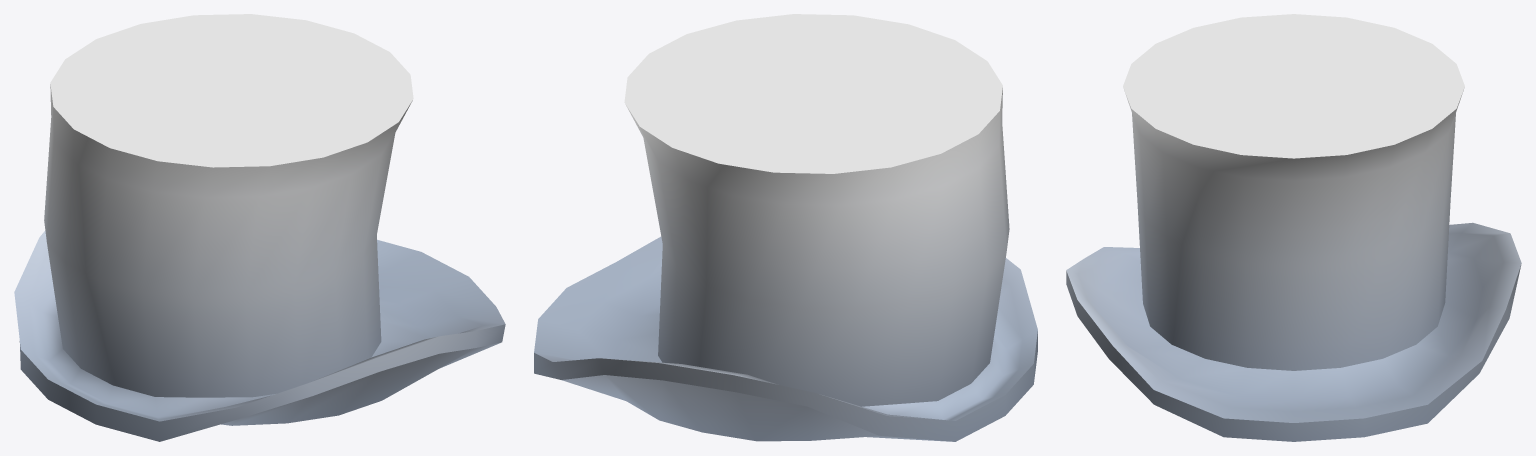
File: Tophat.fbx
3 views of the same model, side by side, from view 1: azimuth 30°, elevation 25°; view 2: azimuth 150°, elevation 25°; view 3: azimuth 270°, elevation 25° (orthographic). The views are drawn at different scales.
Parts seen in each view (by area): view 1: TopHat; view 2: TopHat; view 3: TopHat.
Part boxes in pixels (bbox=[...]): TopHat: bbox=[14, 14, 505, 441]; TopHat: bbox=[534, 14, 1037, 441]; TopHat: bbox=[1066, 14, 1521, 441].
Bounding box in the file's own units: 311 × 186 × 311.
1 material, 1 textured.
